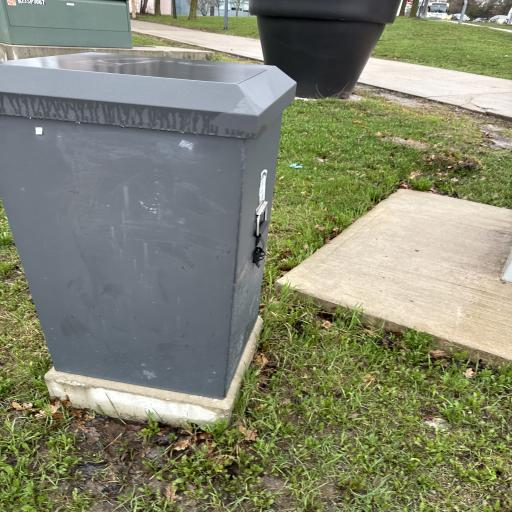Electrical Box: (0, 51, 300, 433), (0, 0, 143, 49)
